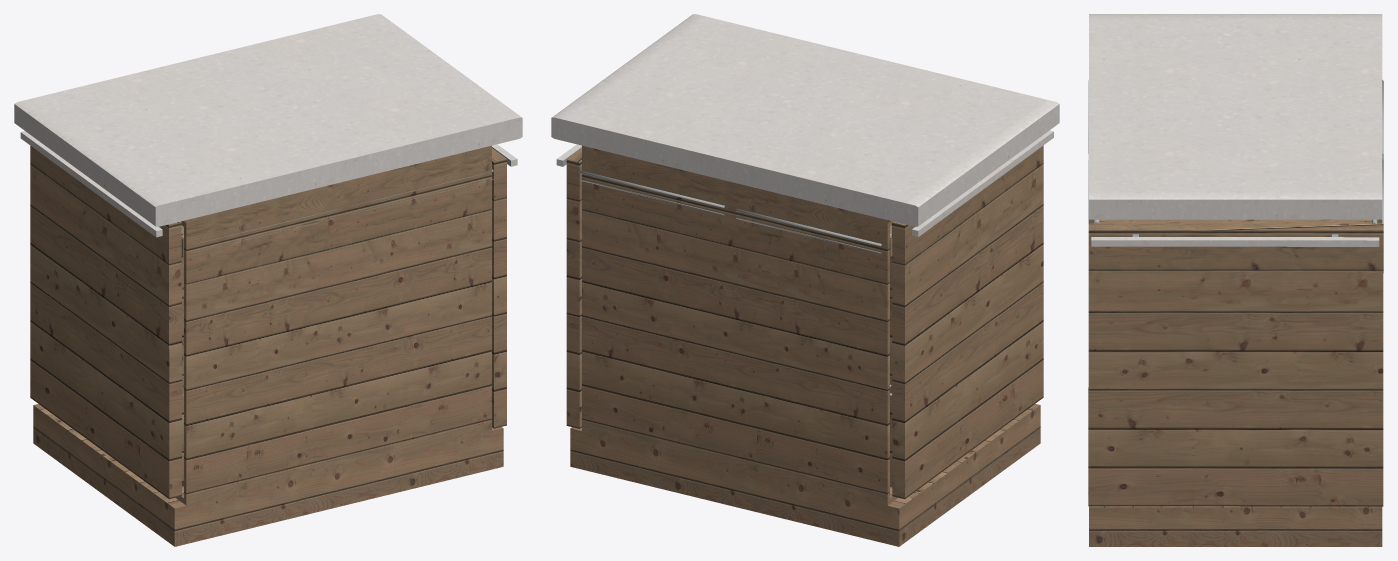
File: eiland enkel la.fbx
The picture shows the model from 3 angles, left to right: view 1: azimuth 30°, elevation 25°; view 2: azimuth 150°, elevation 25°; view 3: azimuth 270°, elevation 25°; orthographic projection. The views are drawn at different scales.
Visible parts, largest first — view 1: eiland 1 lade001, la boven046, la boven047; view 2: eiland 1 lade001, la boven046, la boven047, la binnen010, la binnen011; view 3: la boven047, eiland 1 lade001, la binnen011.
Boxes of the visible parts, x1,y1,x2,y2 form: eiland 1 lade001: [14, 14, 522, 546]; la boven046: [20, 131, 183, 499]; la boven047: [492, 144, 517, 428]; eiland 1 lade001: [551, 14, 1059, 546]; la boven046: [890, 130, 1053, 499]; la boven047: [556, 144, 581, 428]; la binnen010: [736, 209, 892, 294]; la binnen011: [579, 169, 724, 215]; la boven047: [1088, 223, 1383, 506]; eiland 1 lade001: [1089, 14, 1382, 546]; la binnen011: [1088, 159, 1383, 223].
Size of the model in its own units: 35.39 by 31.83 by 23.79.
Materials: 4 (4 with a texture image).
